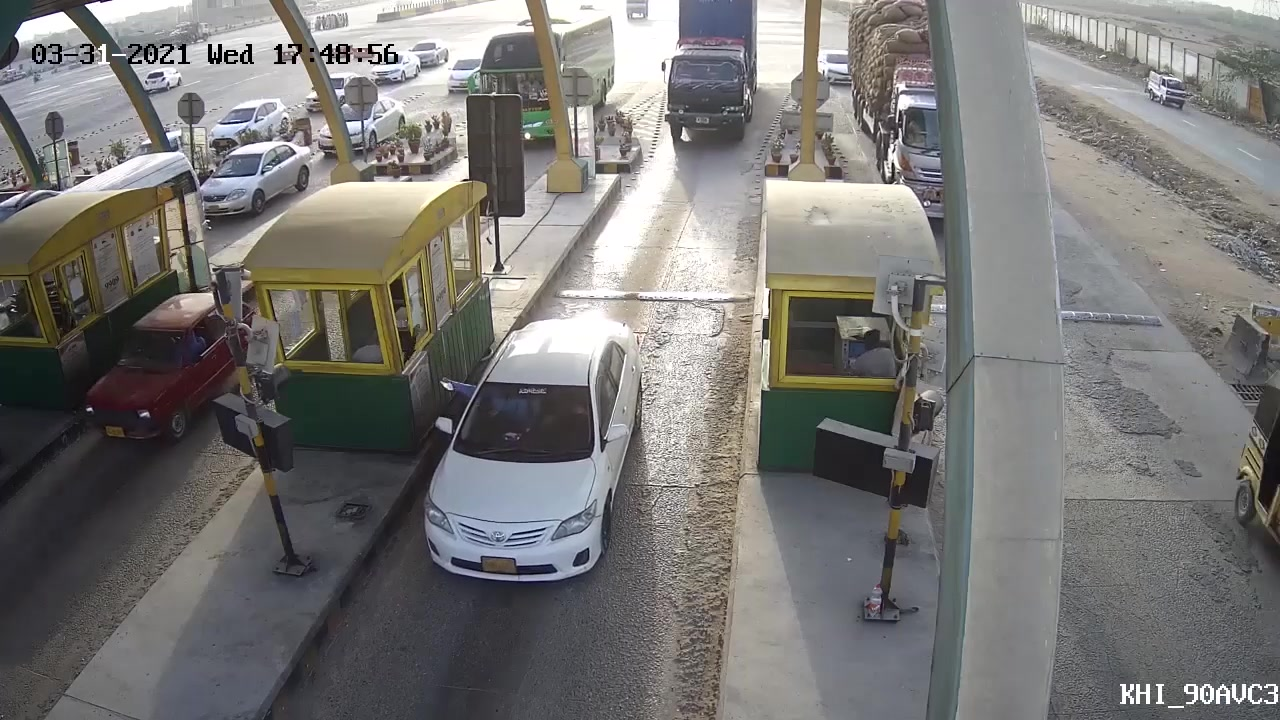F1: (404, 316, 647, 587)
